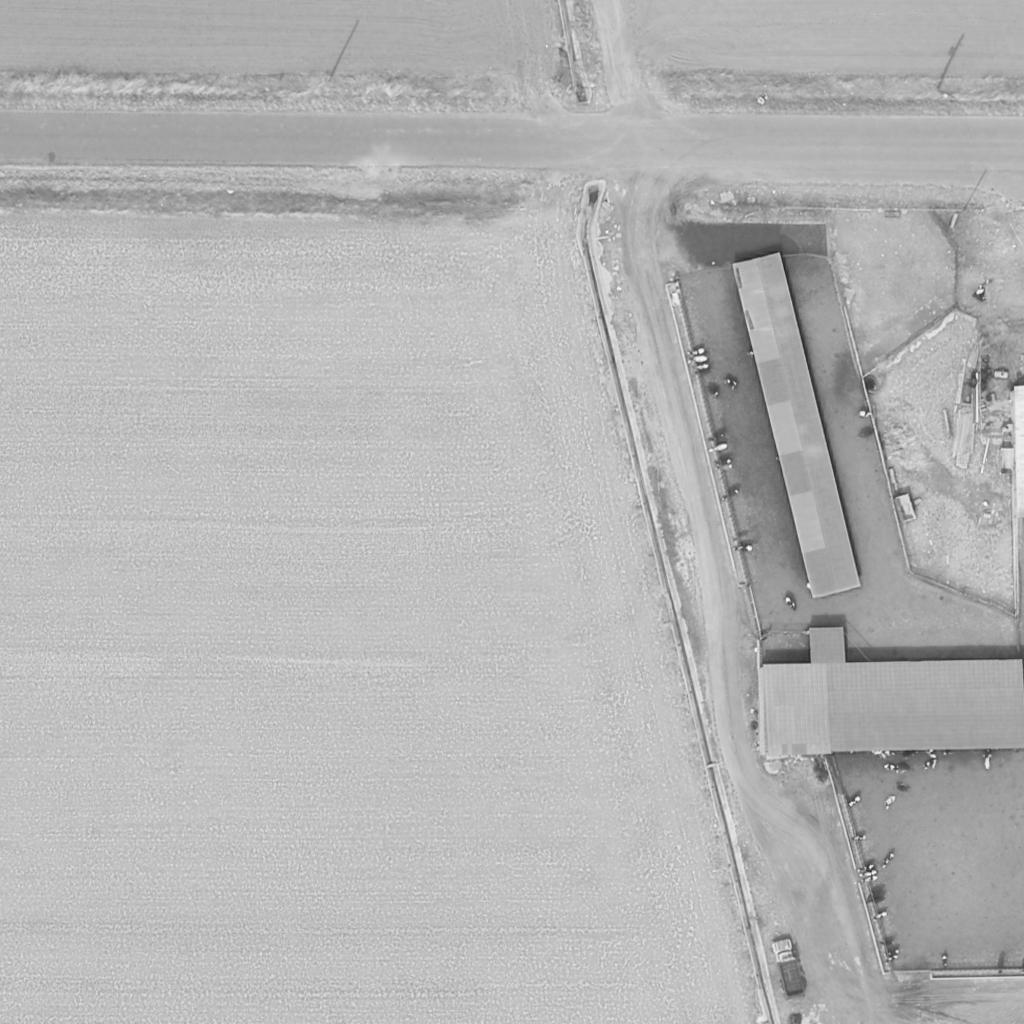vehicle: (770, 939, 806, 999)
